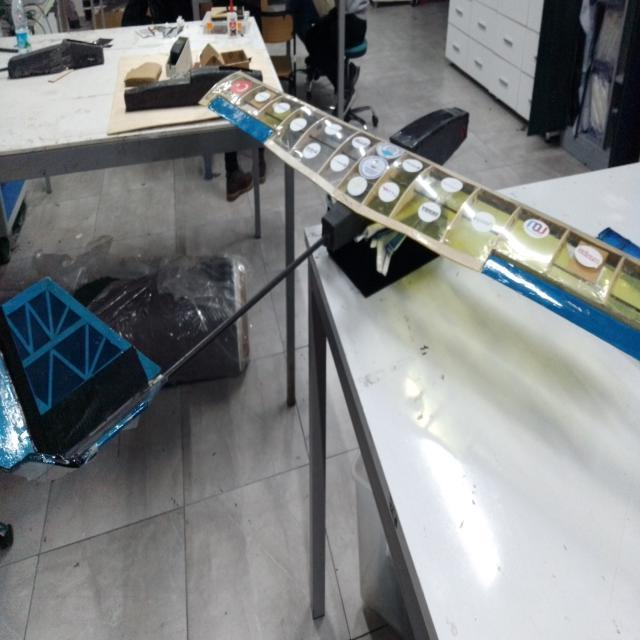UAV: (23, 68, 547, 520)
